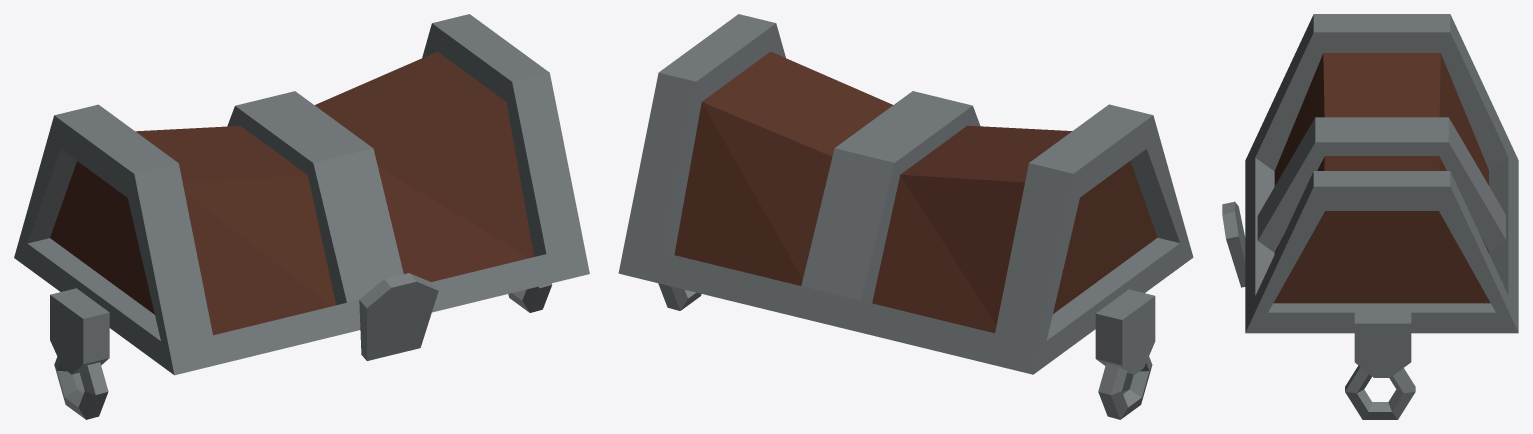
File: metal_chest_up.fbx
The picture shows the model from 3 angles, left to right: view 1: azimuth 30°, elevation 25°; view 2: azimuth 150°, elevation 25°; view 3: azimuth 270°, elevation 25°; orthographic projection. The views are drawn at different scales.
Parts seen in each view (by area): view 1: metal_chest_up; view 2: metal_chest_up; view 3: metal_chest_up.
Boxes of the visible parts, <box> form: metal_chest_up: <box>14,14,589,419</box>; metal_chest_up: <box>618,14,1193,419</box>; metal_chest_up: <box>1222,14,1518,419</box>.
Bounding box in the file's own units: 9.01 × 4.85 × 5.8.
